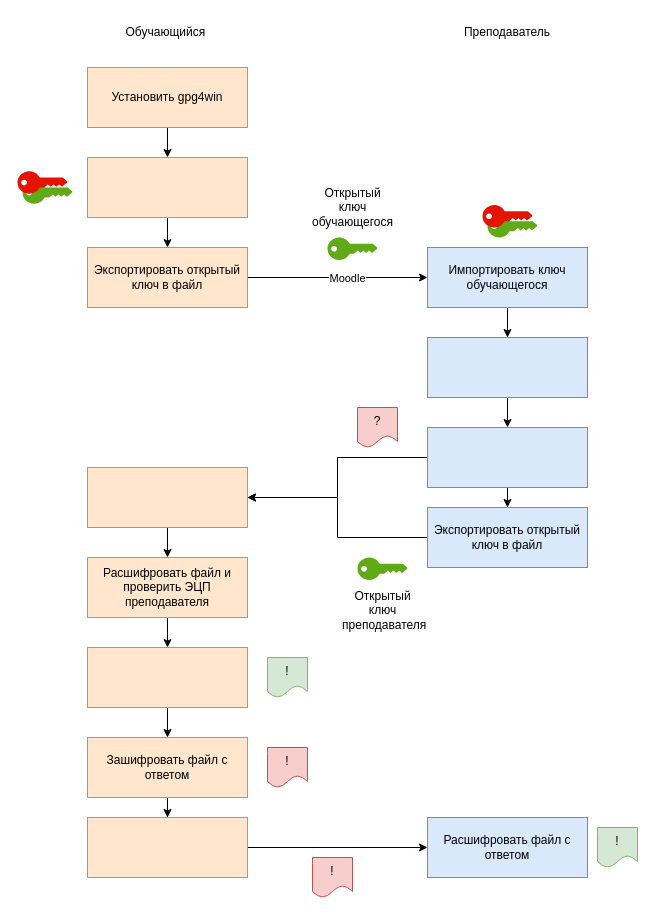
This 655x915 diagram has some shape labels left out. The box of each missing label's shape, as (x1, y1, x2, y2) in pixels:
Зашифровать файл: (426, 336, 588, 398)
Импортировать открытый ключ преподавателя: (86, 466, 248, 528)
Отправить зашифрованный файл с ответом: (86, 816, 248, 878)
Отправить файл с вопросом: (426, 426, 588, 488)
Создать пару ключей: (86, 156, 248, 218)
Сформировать файл с ответом: (86, 646, 248, 708)
